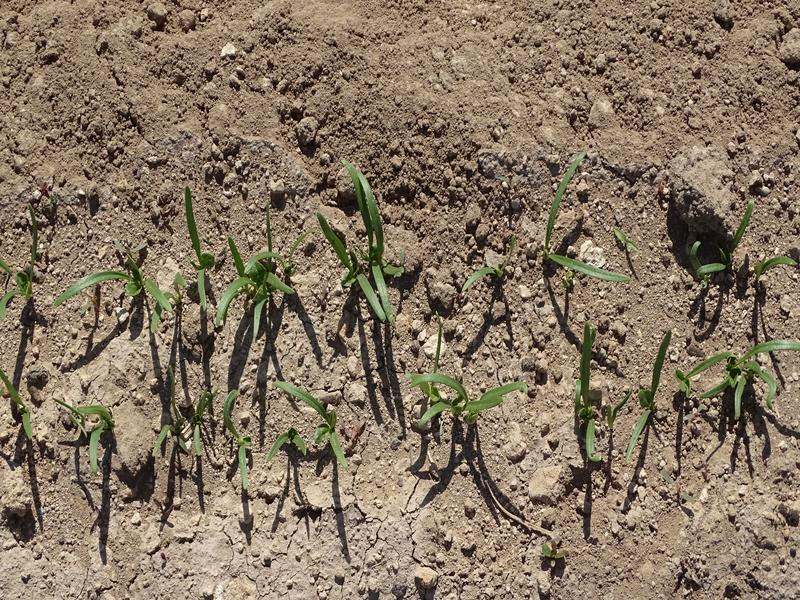Espinaca: (55, 202, 307, 332), (147, 370, 354, 481), (316, 156, 402, 320), (409, 335, 512, 444), (548, 153, 631, 288), (695, 318, 790, 416), (682, 213, 792, 289), (620, 332, 679, 458), (576, 324, 609, 466), (53, 387, 106, 471), (1, 248, 42, 312)
